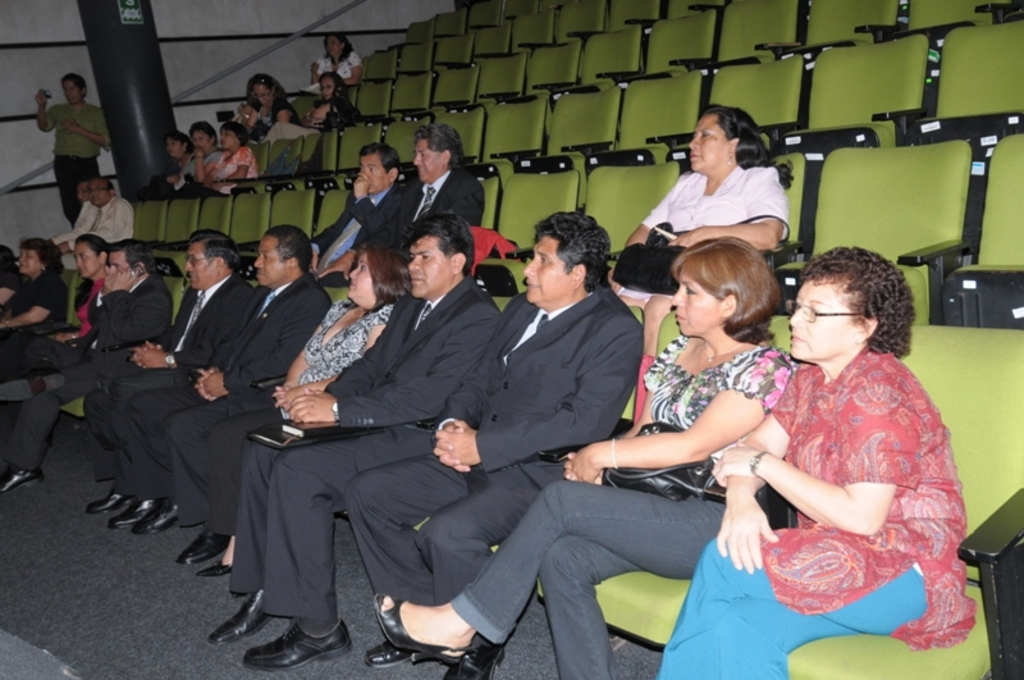Footwear: (379, 590, 498, 675), (255, 626, 358, 670), (210, 592, 265, 636), (361, 634, 413, 663), (182, 531, 228, 561), (129, 508, 178, 535), (116, 498, 156, 531), (0, 475, 42, 490), (90, 494, 116, 512)
